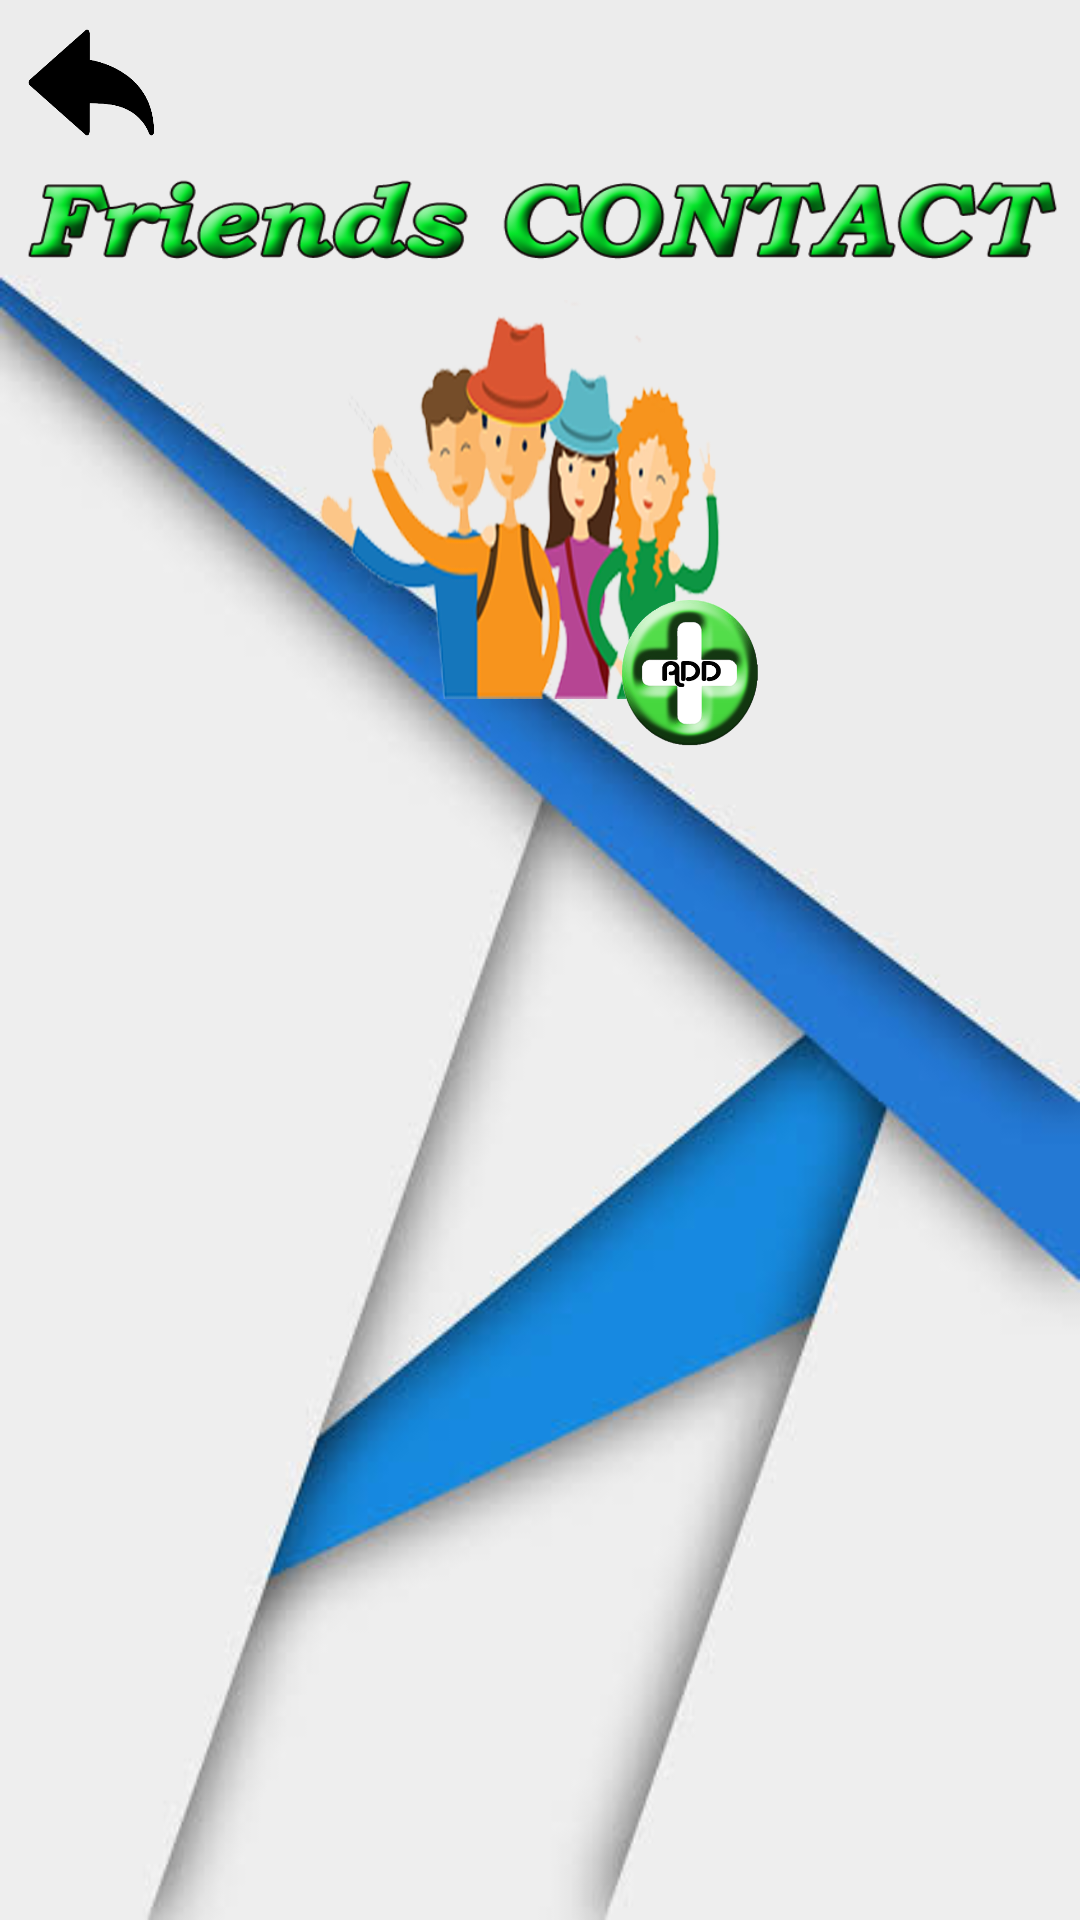

Icon click points for this 1080px x 1920px phone screenshot, format [x,y]:
back arrow: [91,82]
